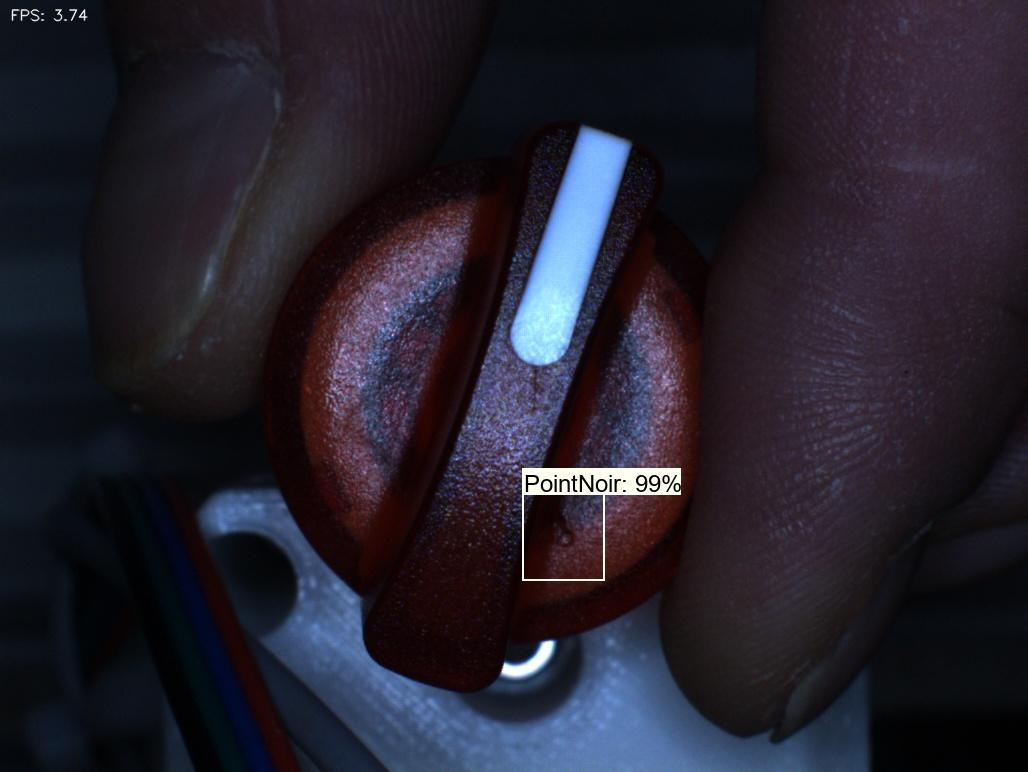Choc: (527, 499, 594, 570)
